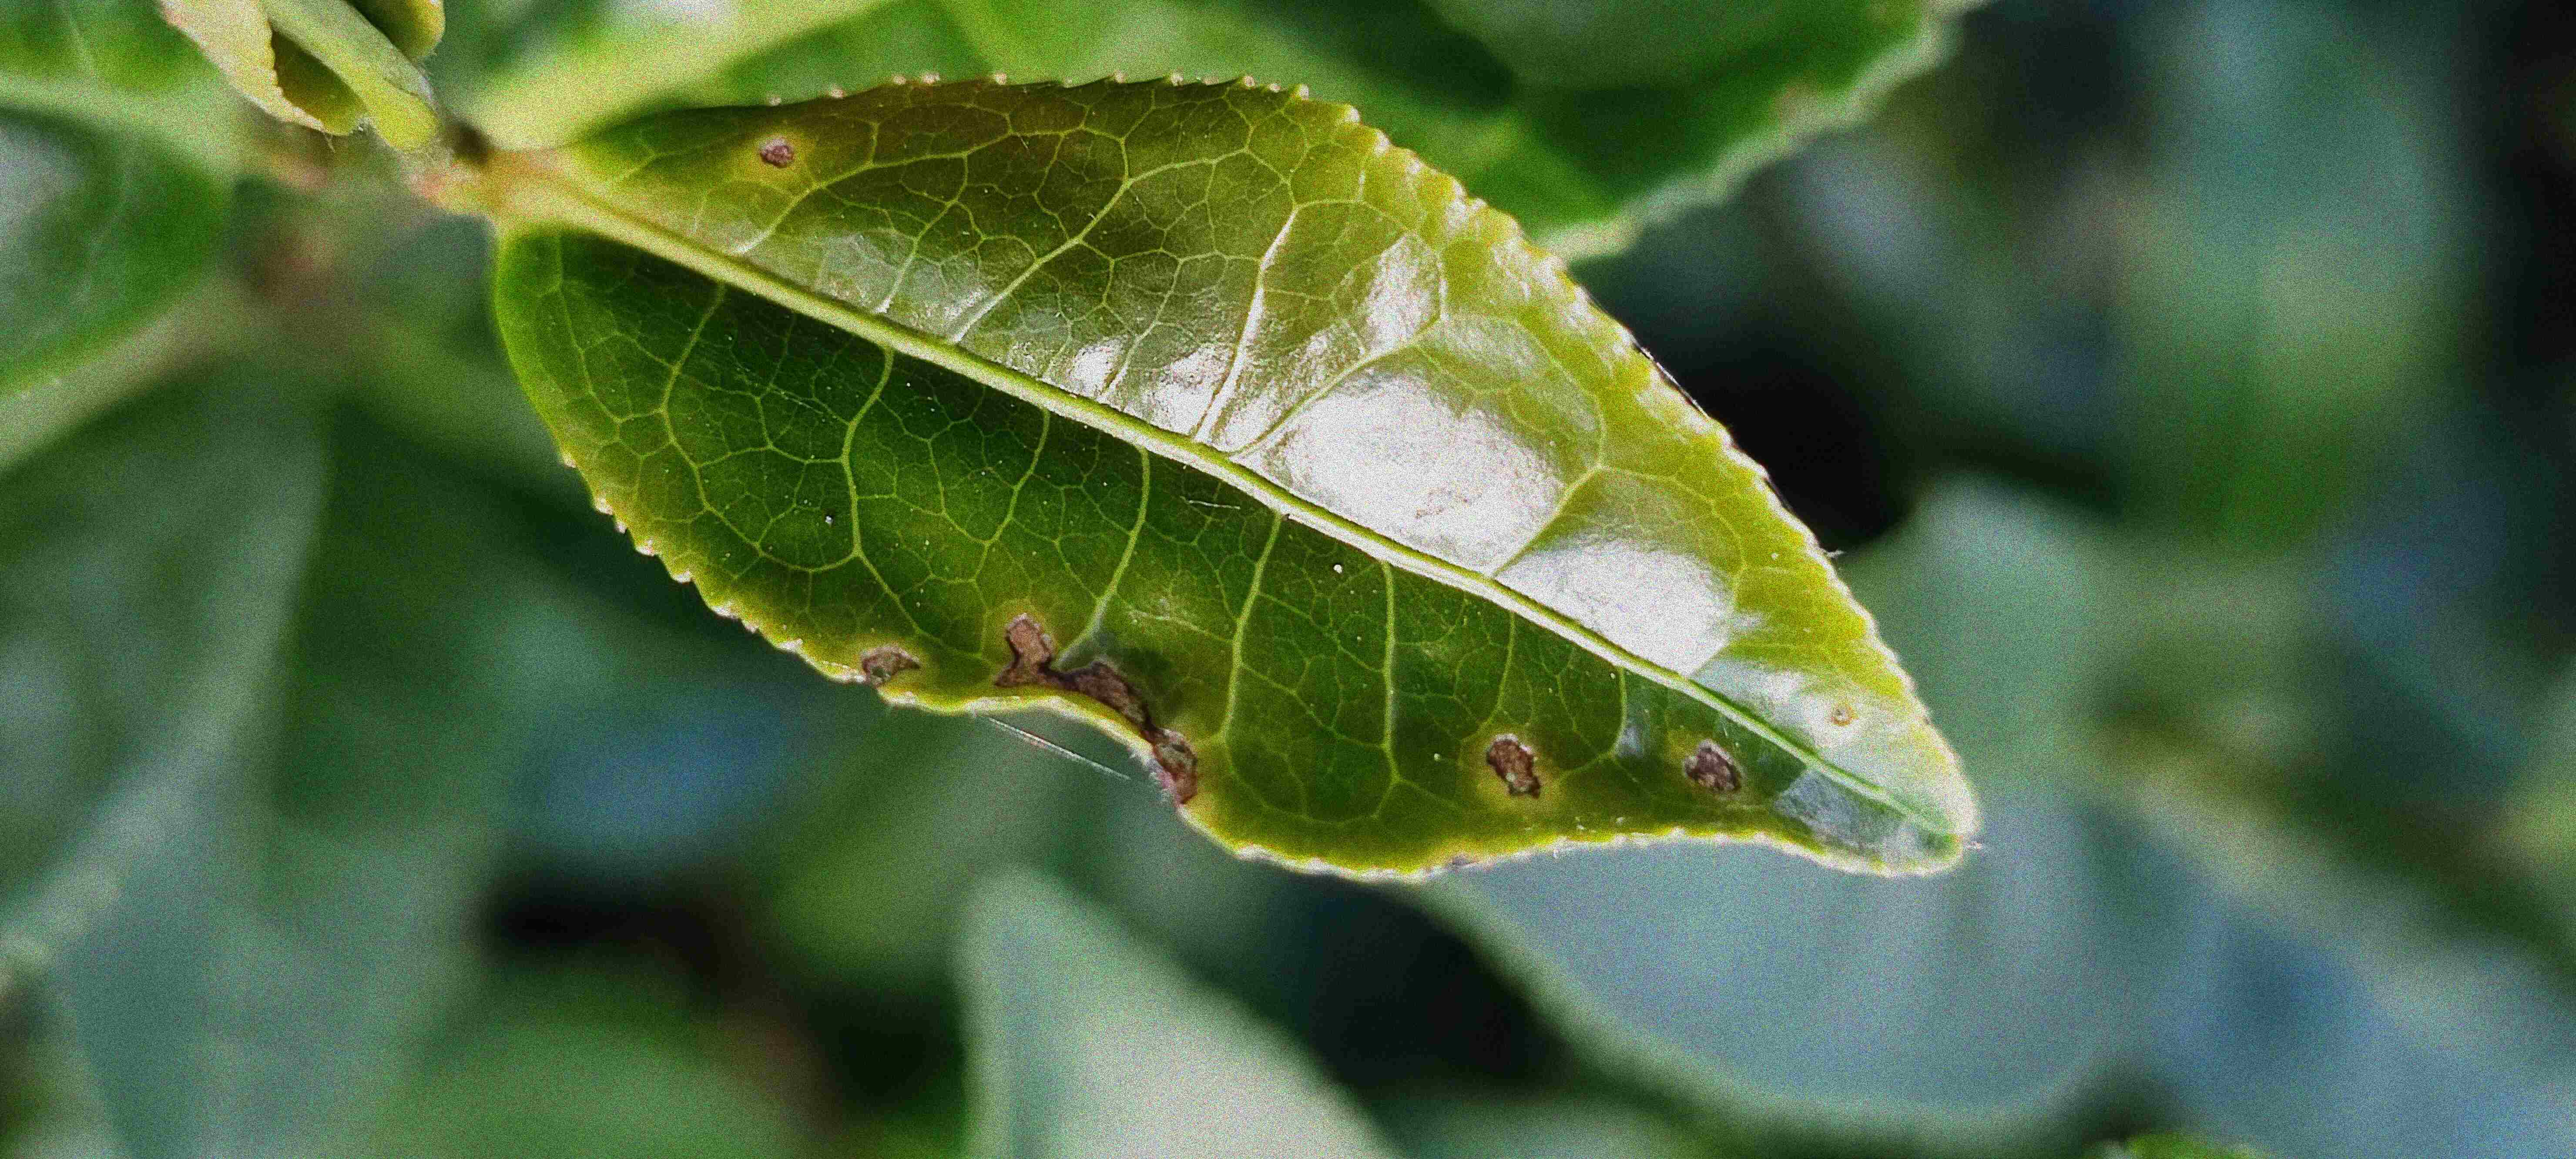tanju_high: (475, 82, 1994, 885)
